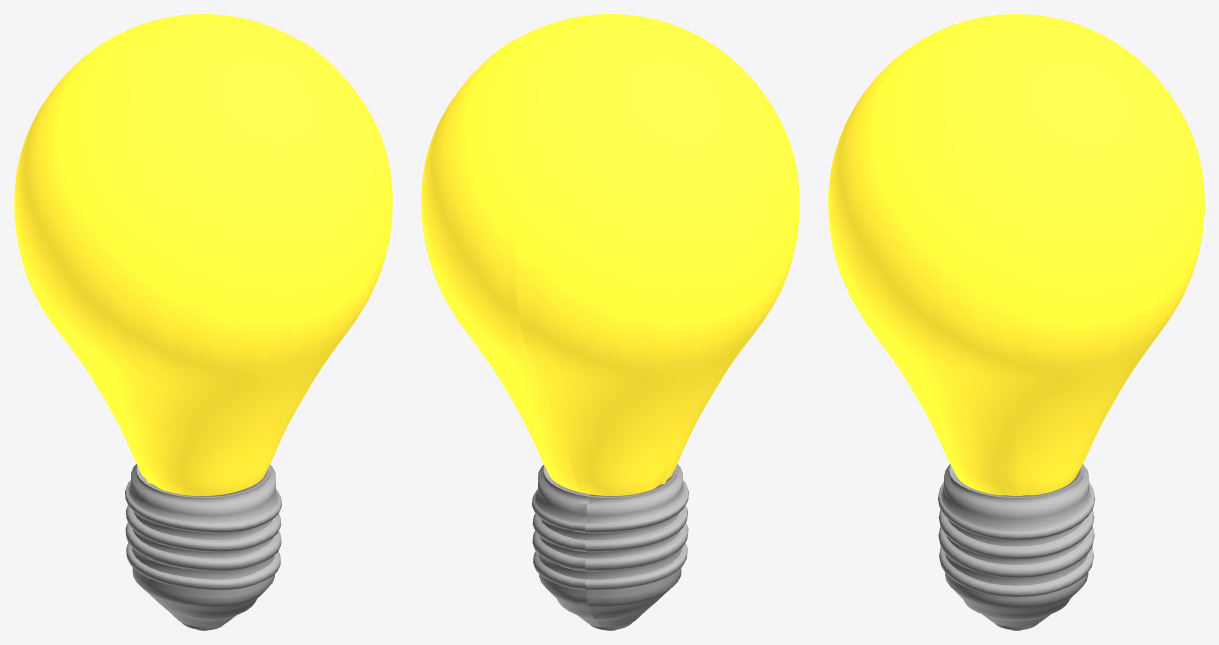
File: bulb-light.fbx
3 views of the same model, side by side, from view 1: azimuth 30°, elevation 25°; view 2: azimuth 150°, elevation 25°; view 3: azimuth 270°, elevation 25° (orthographic).
Parts seen in each view (by area): view 1: Bulb_low, Contact_low_1; view 2: Bulb_low, Contact_low_1; view 3: Bulb_low, Contact_low_1.
Boxes of the visible parts, x1=… form: Bulb_low: x1=14, y1=14, x2=392, y2=495; Contact_low_1: x1=125, y1=464, x2=281, y2=630; Bulb_low: x1=421, y1=14, x2=799, y2=495; Contact_low_1: x1=532, y1=464, x2=688, y2=630; Bulb_low: x1=828, y1=14, x2=1204, y2=495; Contact_low_1: x1=938, y1=464, x2=1095, y2=630.
Bounding box in the file's own units: 3.04 × 5.27 × 3.02.
